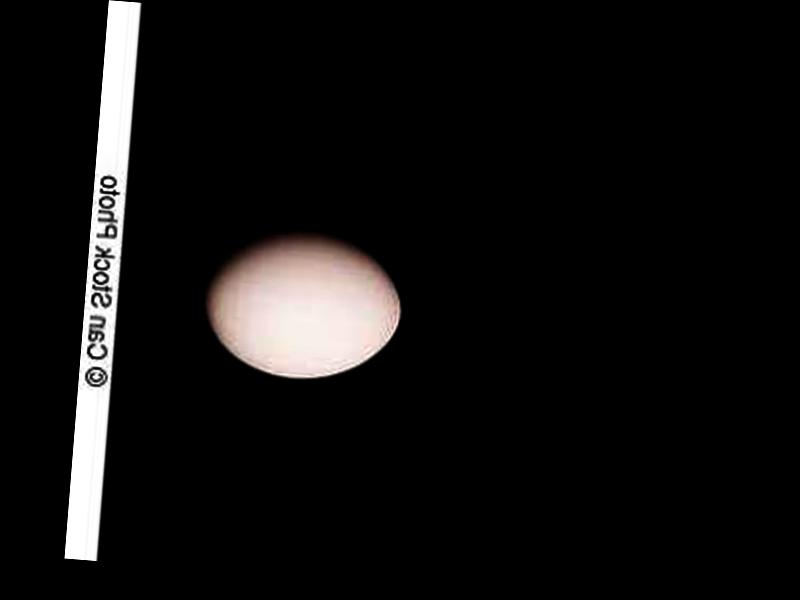Eggs: (195, 224, 407, 386)
